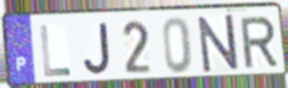0: (161, 15, 195, 76)
2: (121, 19, 153, 76)
J: (82, 21, 113, 77)
L: (38, 24, 73, 79)
N: (196, 12, 241, 75)
R: (238, 14, 280, 71)
